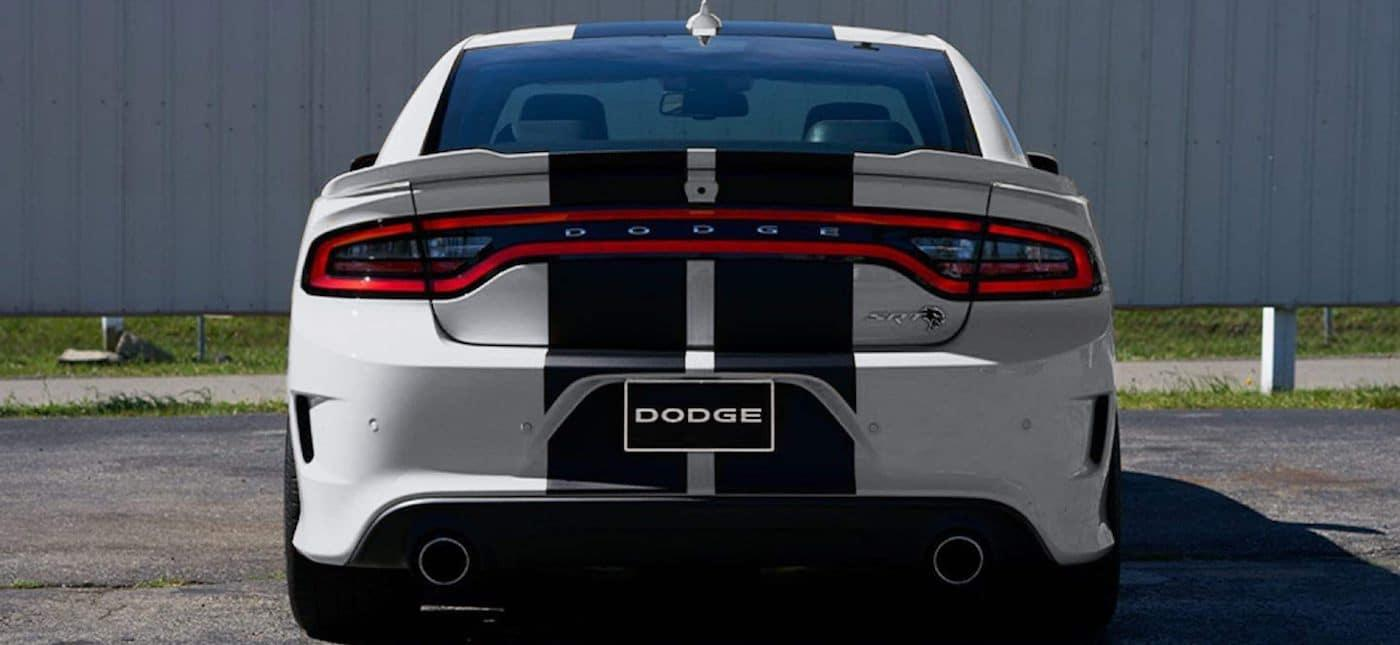dodge: (552, 210, 859, 259)
